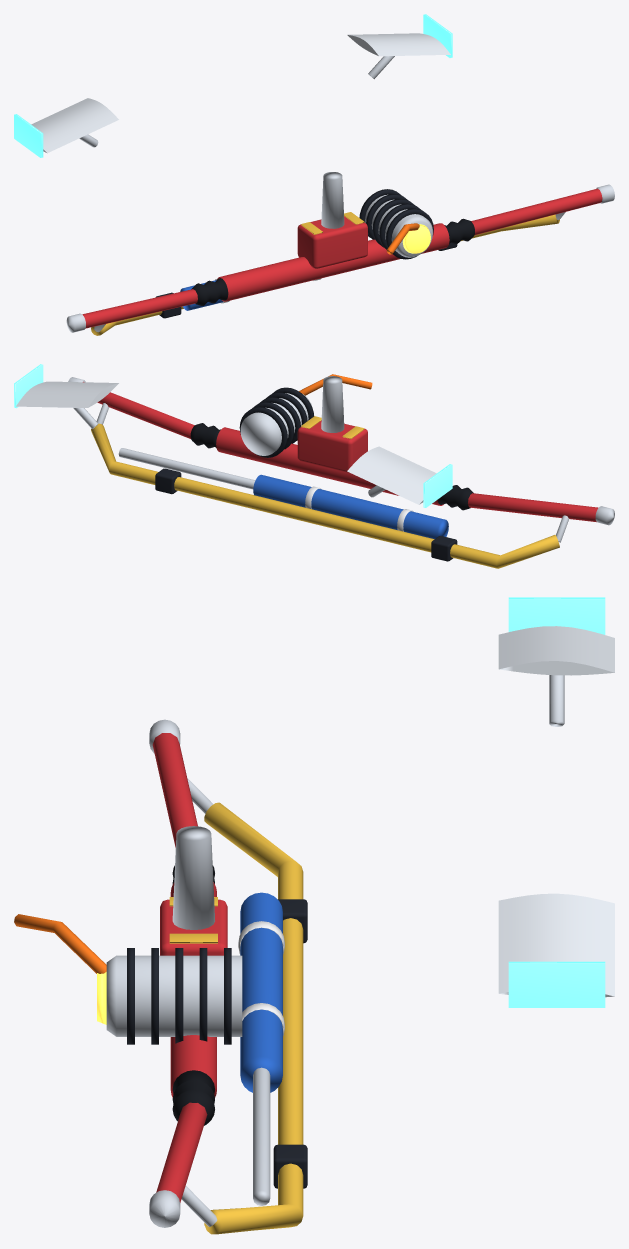
File: parts_steering.glb
3 renders of one model, top to bottom at view 1: azimuth 30°, elevation 25°; view 2: azimuth 150°, elevation 25°; view 3: azimuth 270°, elevation 25°, orthographic. The views are drawn at different scales.
Parts seen in each view (by area): view 1: DirectRack, DirectBox, AirCanard_-1, DirectRod_1, AirCanard_1, DirectRod_-1, DirectPinion, ServoMotor, TrackBar, AirCanardTip_-1, DirectBoot_-1, ServoCap (+3 smaller); view 2: TrackBar, CalmDamper, AirCanard_-1, DirectBox, DirectRack, AirCanard_1, DirectRod_-1, ServoMotor, CalmPiston, DirectRod_1, DirectPinion, AirCanardTip_-1 (+12 smaller); view 3: TrackBar, AirCanard_1, ServoMotor, CalmDamper, AirCanard_-1, AirCanardTip_1, DirectPinion, AirCanardTip_-1, DirectRod_-1, DirectRod_1, CalmPiston, DirectBox (+6 smaller).
Part boxes in pixels (<box>): DirectRack: <box>217,223,449,301</box>; DirectBox: <box>297,216,367,268</box>; AirCanard_-1: <box>31,98,118,153</box>; DirectRod_1: <box>471,188,602,235</box>; AirCanard_1: <box>347,33,450,56</box>; DirectRod_-1: <box>82,289,197,328</box>; DirectPinion: <box>321,172,344,228</box>; ServoMotor: <box>362,194,432,257</box>; TrackBar: <box>91,214,559,335</box>; AirCanardTip_-1: <box>14,114,43,157</box>; DirectBoot_-1: <box>191,278,228,305</box>; ServoCap: <box>402,224,430,253</box>; TrackBar: <box>91,423,559,568</box>; CalmDamper: <box>253,474,448,539</box>; AirCanard_-1: <box>347,446,436,504</box>; DirectBox: <box>297,420,367,472</box>; DirectRack: <box>216,427,443,505</box>; AirCanard_1: <box>16,381,118,407</box>; DirectRod_-1: <box>468,493,598,522</box>; ServoMotor: <box>240,393,311,455</box>; CalmPiston: <box>118,448,255,489</box>; DirectRod_1: <box>83,381,194,438</box>; DirectPinion: <box>321,376,344,432</box>; AirCanardTip_-1: <box>423,464,452,507</box>; TrackBar: <box>204,802,303,1234</box>; AirCanard_1: <box>498,893,614,997</box>; ServoMotor: <box>106,955,242,1036</box>; CalmDamper: <box>240,892,282,1092</box>; AirCanard_-1: <box>498,626,614,675</box>; AirCanardTip_1: <box>508,961,605,1007</box>; DirectPinion: <box>172,826,214,929</box>; AirCanardTip_-1: <box>508,597,605,634</box>; DirectRod_-1: <box>152,733,197,847</box>; DirectRod_1: <box>156,1102,207,1202</box>; CalmPiston: <box>253,1067,270,1205</box>; DirectBox: <box>160,899,227,955</box>.
Bounding box in the file's own units: 1.19 × 0.3215 × 0.6208.
